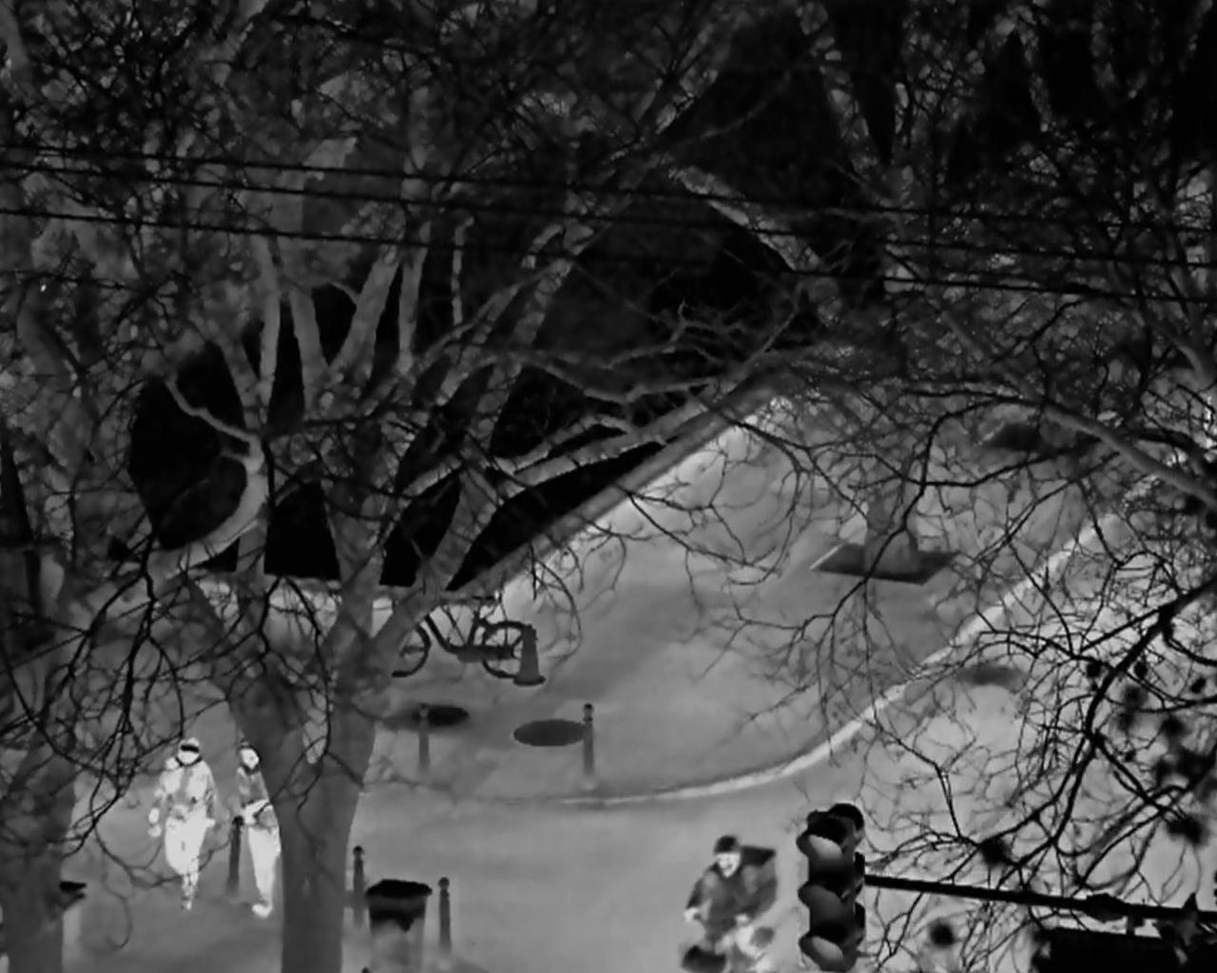person: (145, 736, 215, 912), (685, 833, 763, 969), (233, 735, 280, 919)
